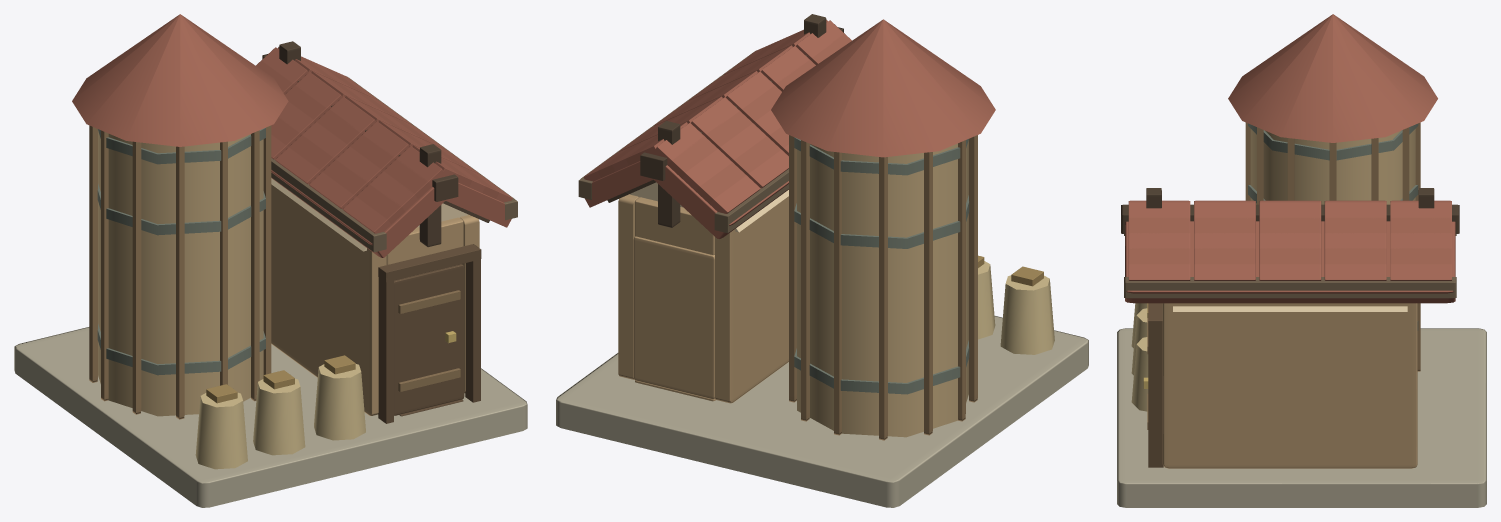
File: granary-1.glb
3 views of the same model, side by side, from view 1: azimuth 30°, elevation 25°; view 2: azimuth 150°, elevation 25°; view 3: azimuth 270°, elevation 25° (orthographic). The views are drawn at different scales.
Parts seen in each view (by area): view 1: granary-1-0, door-hinge; view 2: granary-1-0; view 3: granary-1-0.
Boxes of the visible parts, x1,y1,x2,y2 form: granary-1-0: (14,14,527,507); door-hinge: (394,264,464,415); granary-1-0: (556,14,1088,507); granary-1-0: (1117,14,1486,507).
Size of the model in its own units: 1.92 by 2.16 by 1.9.
